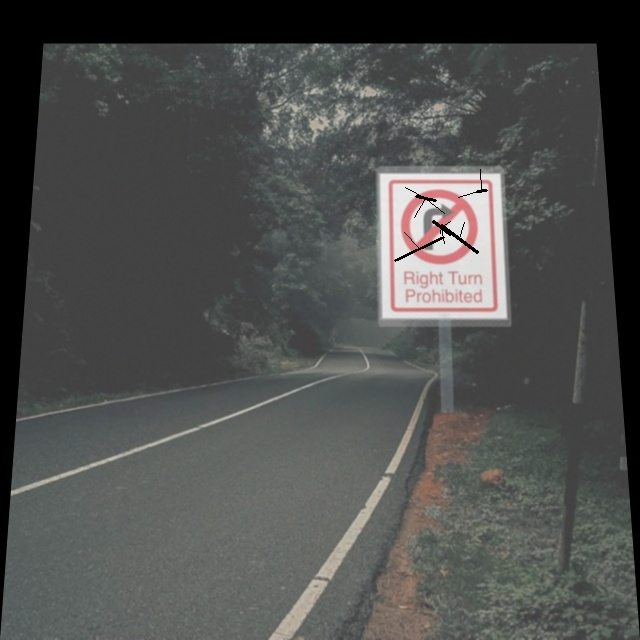Right_Turn_Prohibited: (392, 183, 491, 269)
